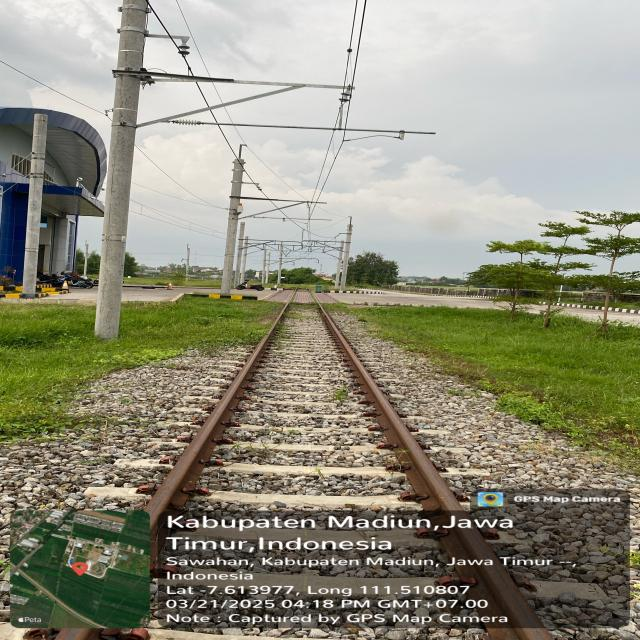rail-detection: (145, 310, 284, 560), (320, 306, 466, 521), (437, 527, 552, 640)
